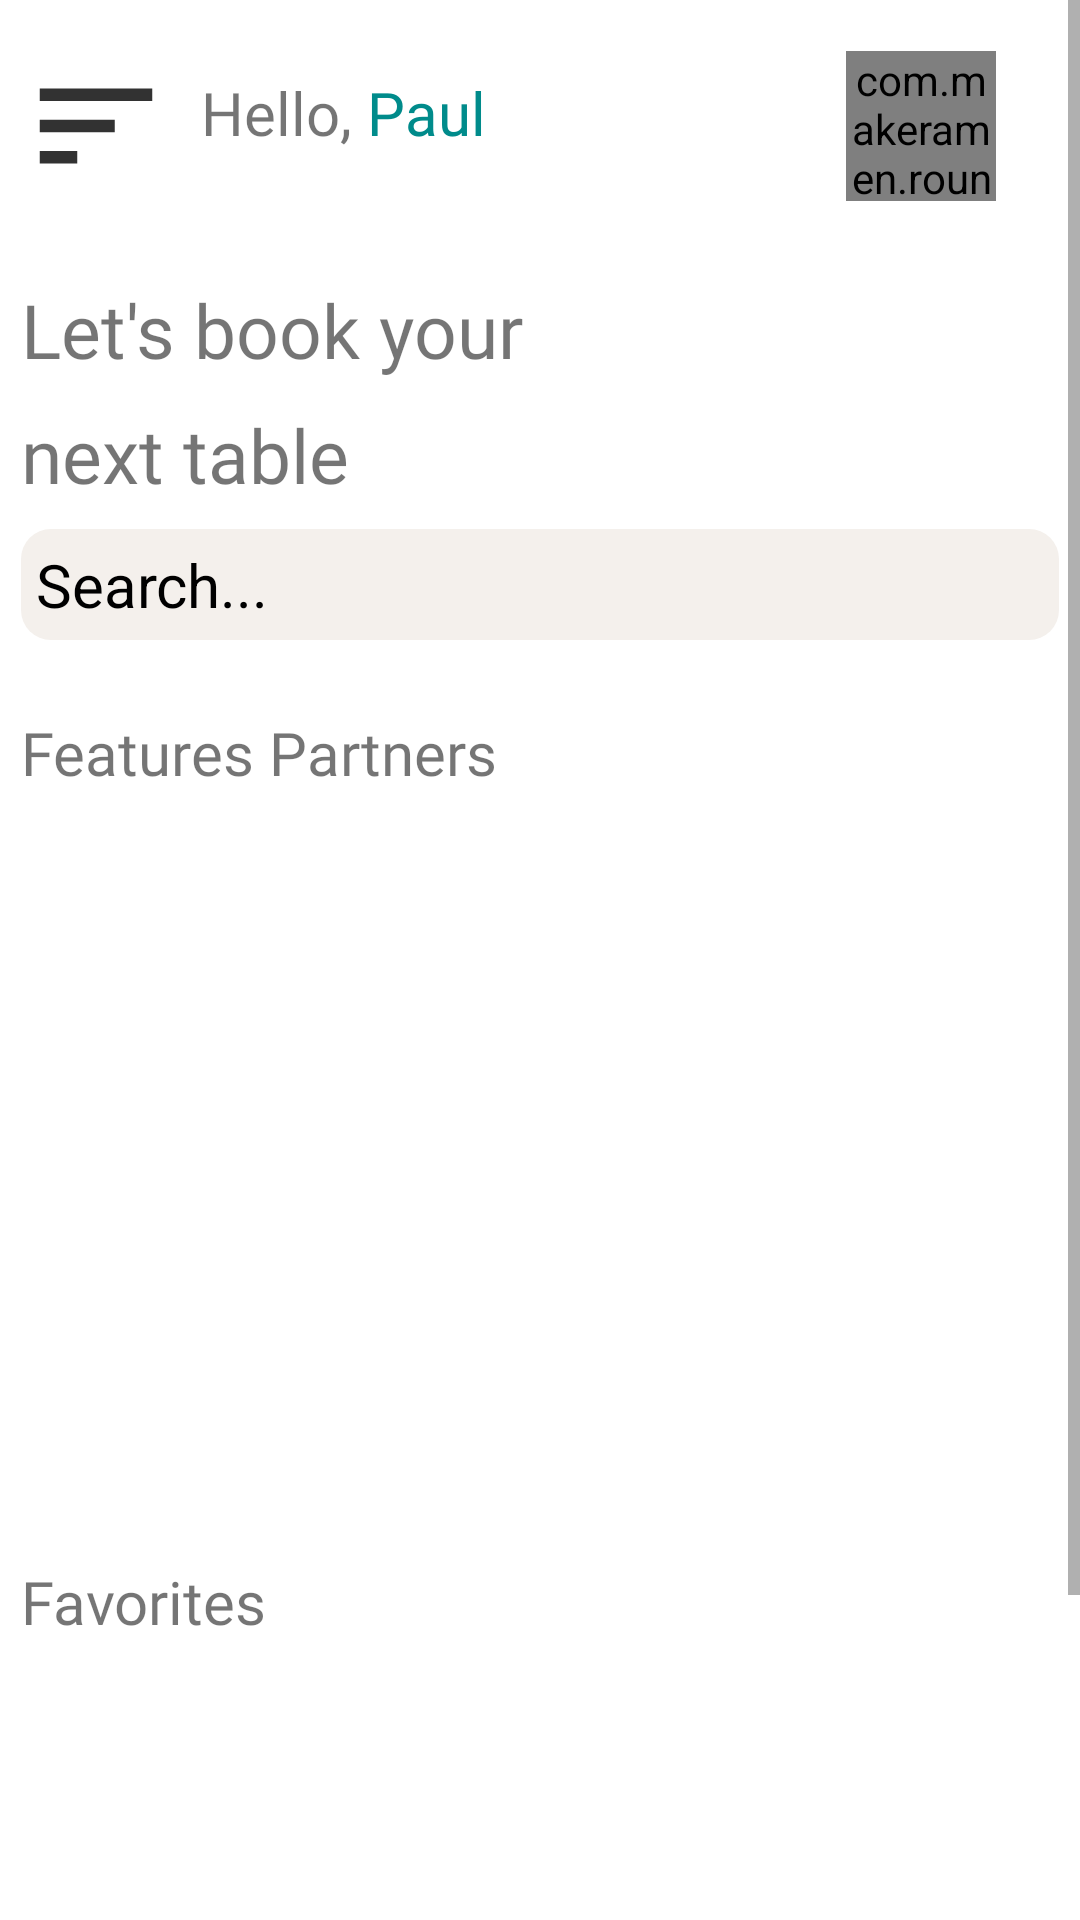

Icon bounding boxes for this 1080x1920 phone screenshot, format (x1,y1,x2,y2):
sort: (39,88,153,164)
